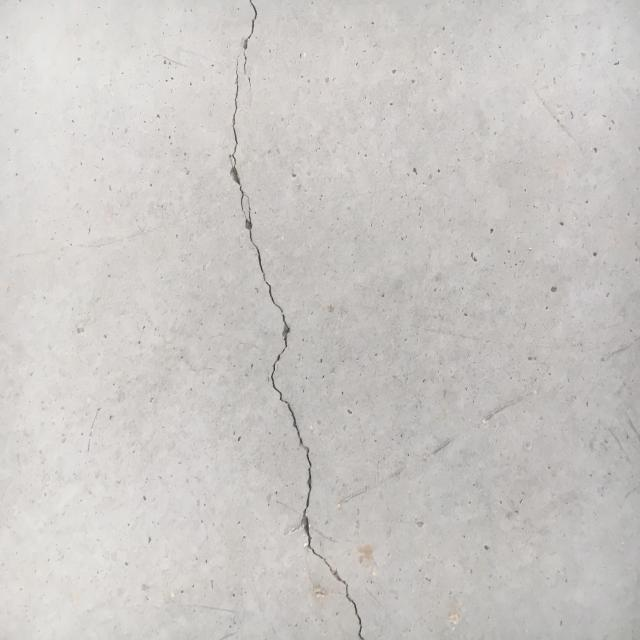SurfaceCrack: (194, 0, 388, 639)
